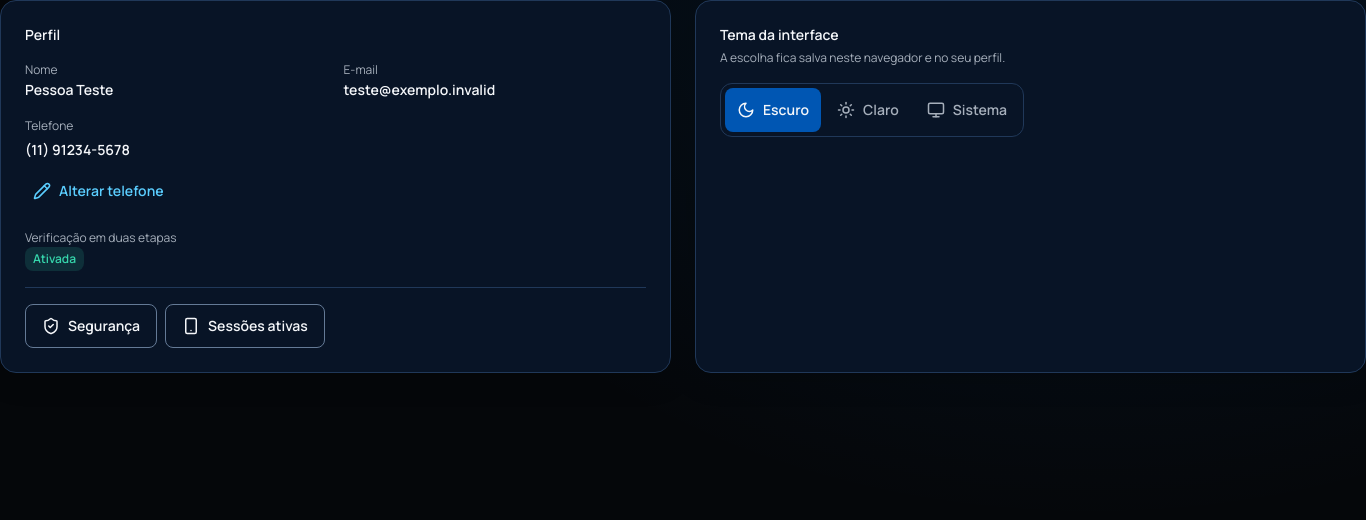
Test: Minha conta — telefone › apagar a máscara apaga o dígito; fixo de 10 dígitos formata (DD) NNNN-NNNN
Check: the text with test id "account-phone" reads "(11) 91234-5678", box [25,140,130,159]
Click the button "Alterar telefone" at (98, 191), box [25,169,172,213]
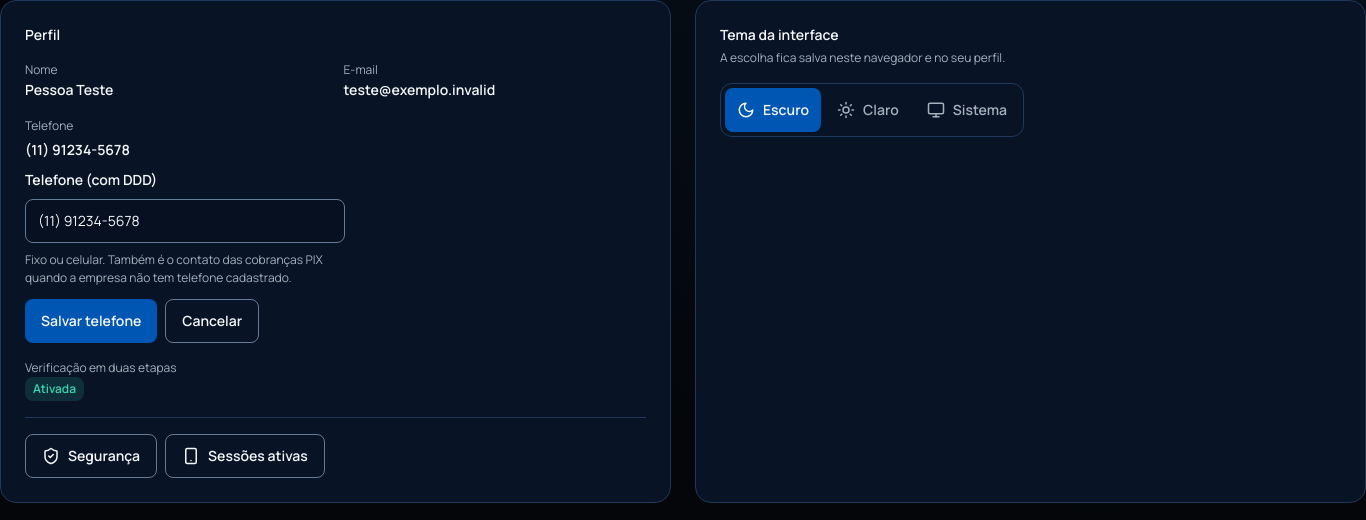
Check: the field labelled "Telefone (com DDD)" holds "(11) 91234-5678"
Type "1133334444" into the field labelled "Telefone (com DDD)" at (185, 221), box [25,199,345,243]
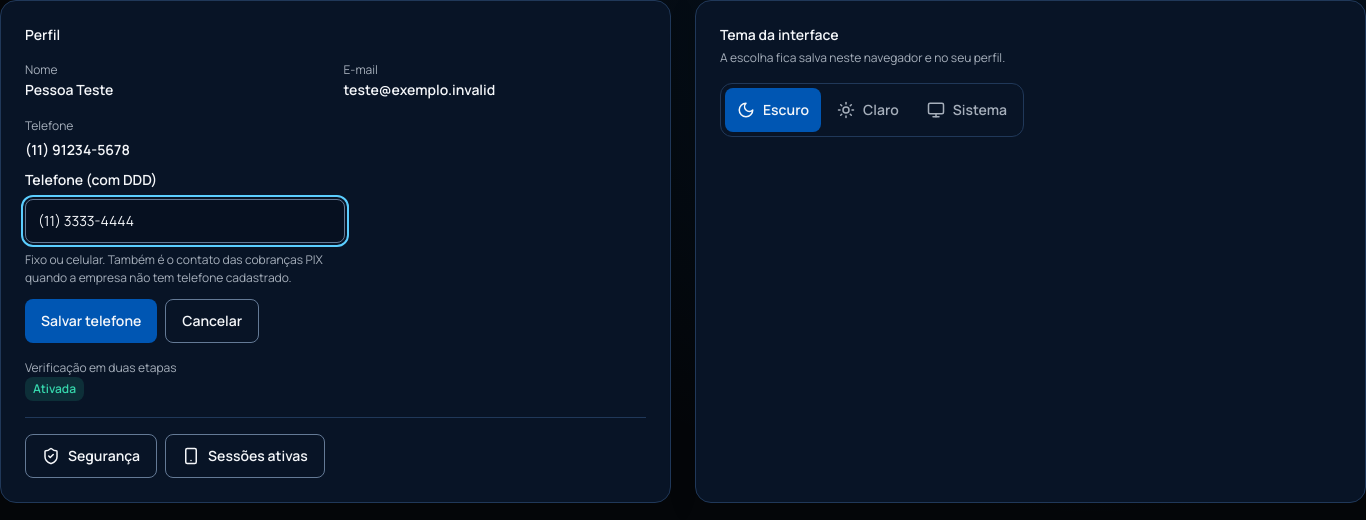
Check: the field labelled "Telefone (com DDD)" holds "(11) 3333-4444"
Replace the text in the field labelled "Telefone (com DDD)" with "(11) 33334444" at (185, 221), box [25,199,345,243]
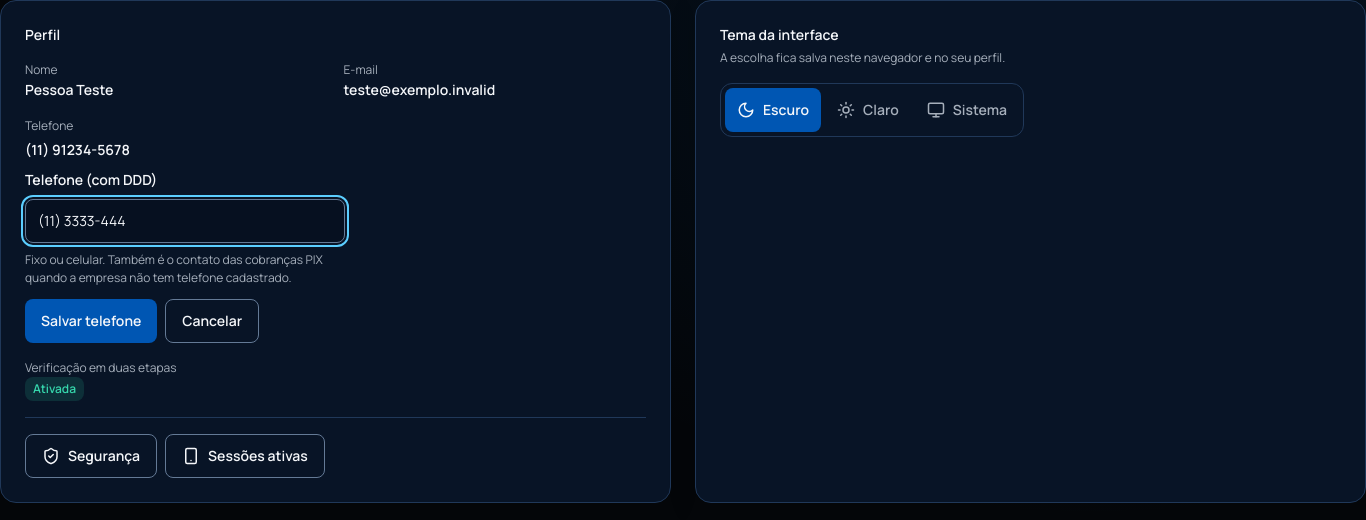
Check: the field labelled "Telefone (com DDD)" holds "(11) 3333-444", box [25,199,345,243]
